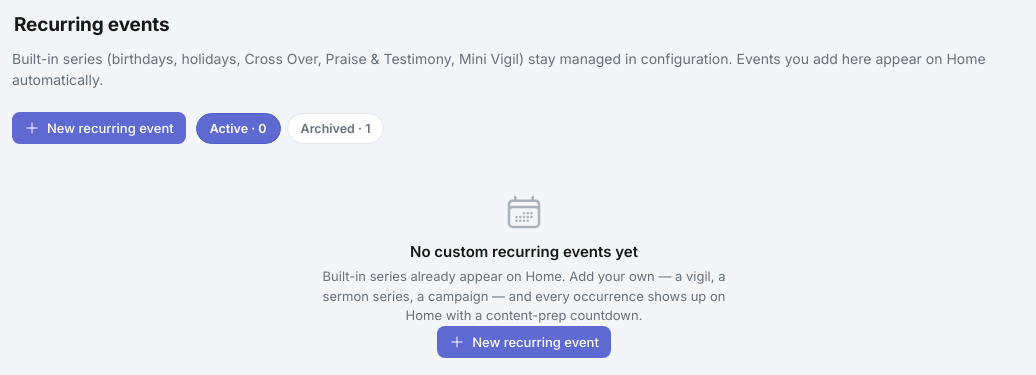
it: AdminEvents restore feedback › a SUCCESSFUL restore shows a status message, not an alert
This screenshot has width=1036, height=375.
Click the button named "Archived events": (336, 128) [287,112,384,144]
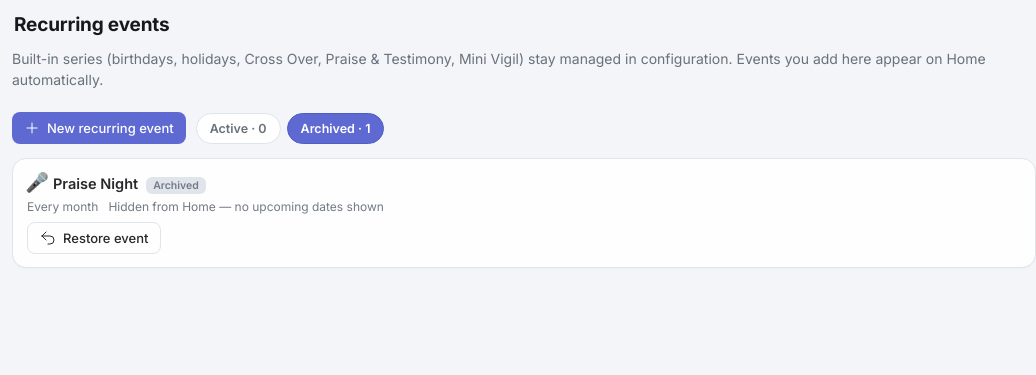
Click the button "Restore event": (94, 238) [27,222,161,254]
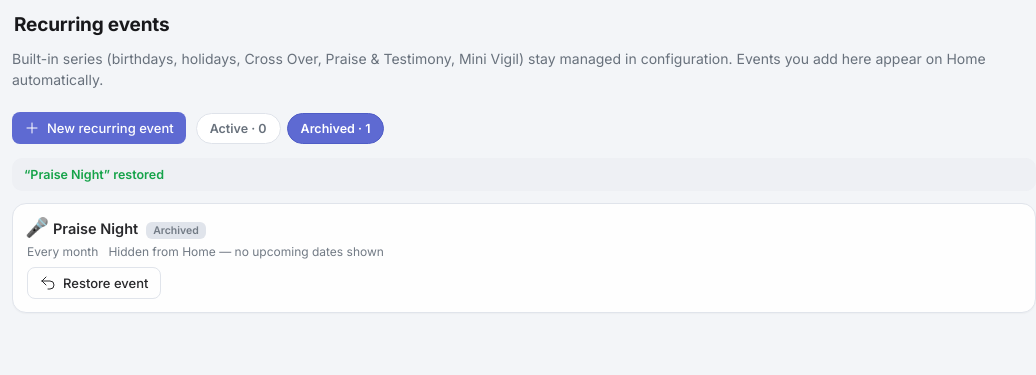
Now the text "“Praise Night” restored" is shown, box [12,158,1035,191]
